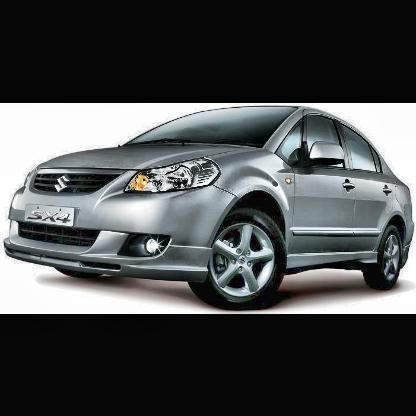Suzuki SX4 Sedan 2012: (4, 104, 416, 311)
